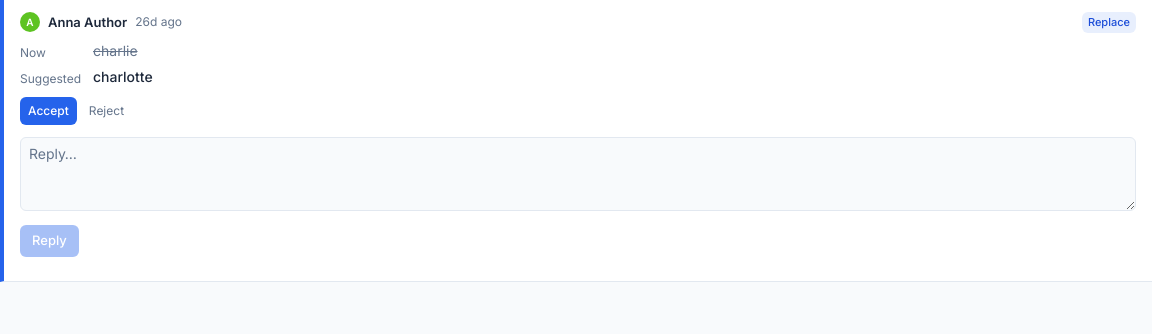
Test: SuggestionCard › accept_409_changed_shows_note_and_refetches
Click the button with test id "suggestion-accept-s1": (48, 110) [20,96,77,124]
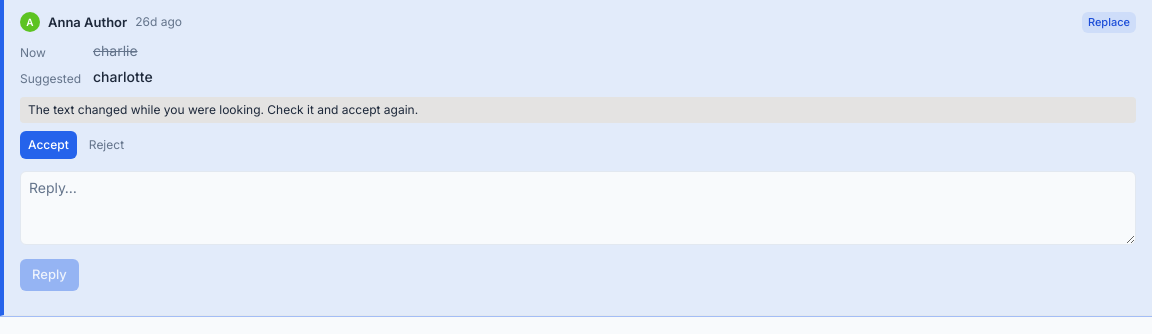
Check: the button with test id "suggestion-accept-s1" is enabled, box [20,130,77,158]
Check: the element with test id "suggestion-note-s1" reads "The text changed while you were looking. Check it and accept again.", box [28,102,418,116]
